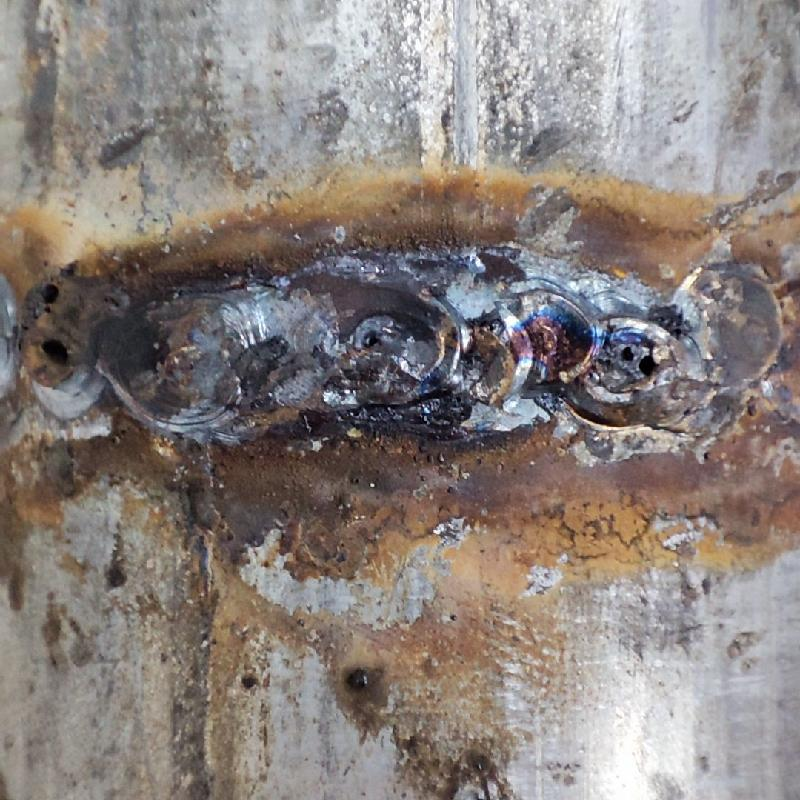Surface_pores: (29, 273, 100, 388), (608, 328, 673, 392)
crater: (11, 268, 796, 425)
